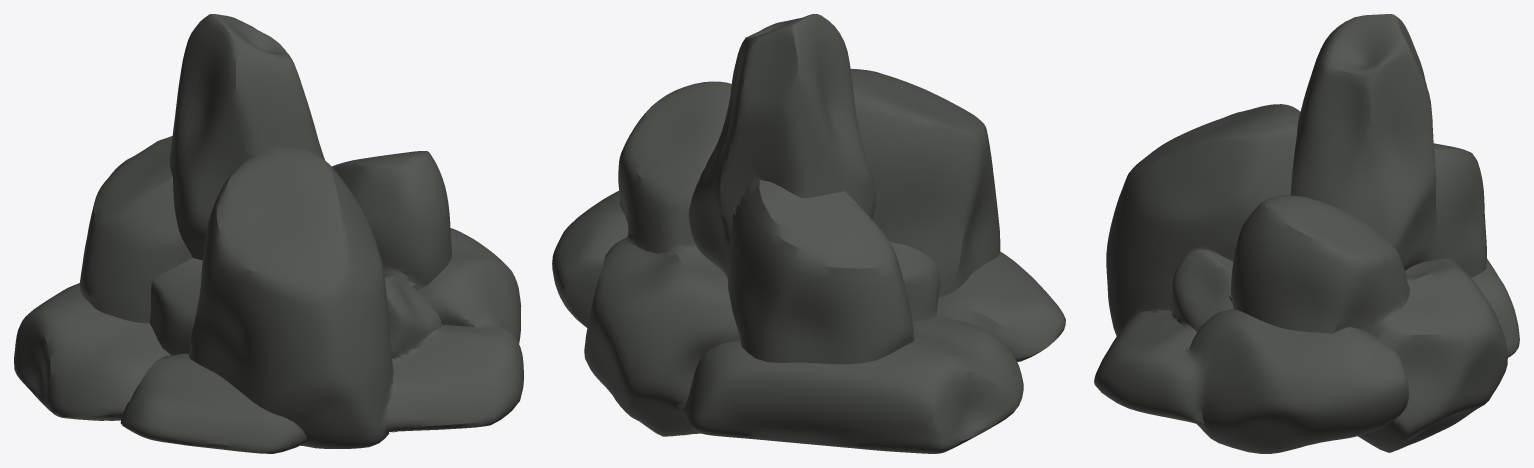
The model's file is coral_rock2.glb.
The picture shows the model from 3 angles, left to right: view 1: azimuth 30°, elevation 25°; view 2: azimuth 150°, elevation 25°; view 3: azimuth 270°, elevation 25°; orthographic projection. The views are drawn at different scales.
Visible parts, largest first — view 1: Environment_Cliff2; view 2: Environment_Cliff2; view 3: Environment_Cliff2.
Part boxes in pixels (left/top/right/bottom): Environment_Cliff2: left=14, top=14, right=523, bottom=453; Environment_Cliff2: left=552, top=14, right=1065, bottom=453; Environment_Cliff2: left=1094, top=14, right=1519, bottom=453.
Size of the model in its own units: 8 by 6.91 by 7.11.
Materials: 1 (1 with a texture image).
